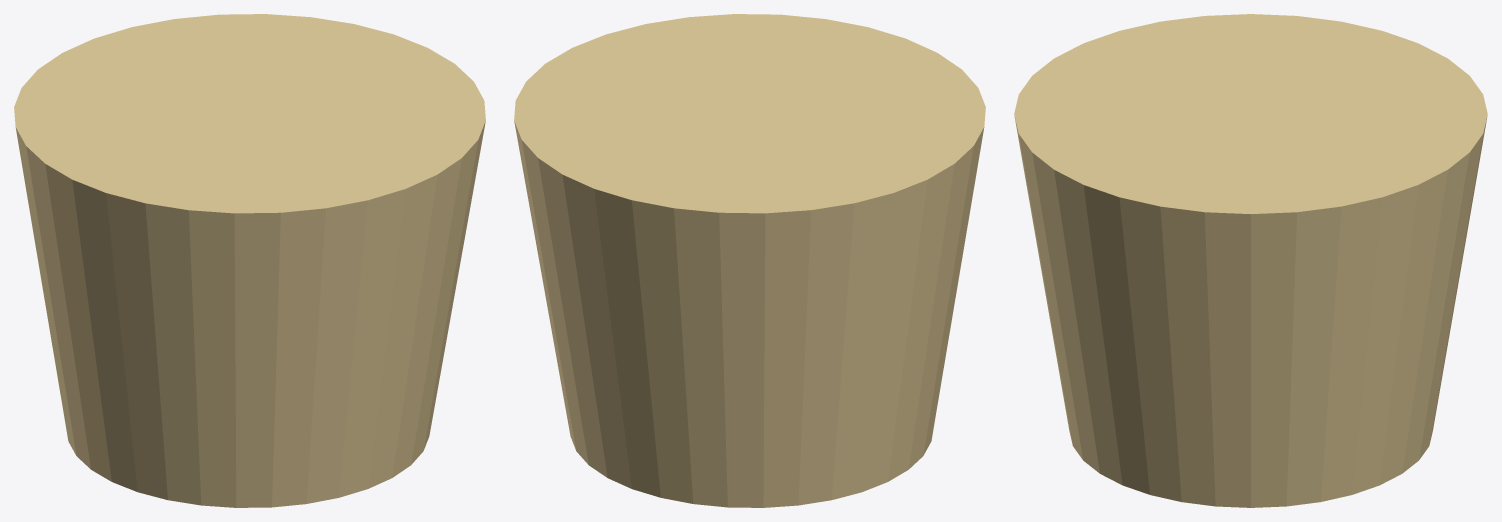
File: Alokasia1.glb
The picture shows the model from 3 angles, left to right: view 1: azimuth 30°, elevation 25°; view 2: azimuth 150°, elevation 25°; view 3: azimuth 270°, elevation 25°; orthographic projection.
Visible parts, largest first — view 1: 흙임; view 2: 흙임; view 3: 흙임.
Part boxes in pixels (x1,y1,x2,y2): 흙임: [14, 14, 485, 507]; 흙임: [514, 14, 985, 507]; 흙임: [1014, 14, 1487, 507].
Bounding box in the file's own units: 0.3201 × 0.237 × 0.3201.
